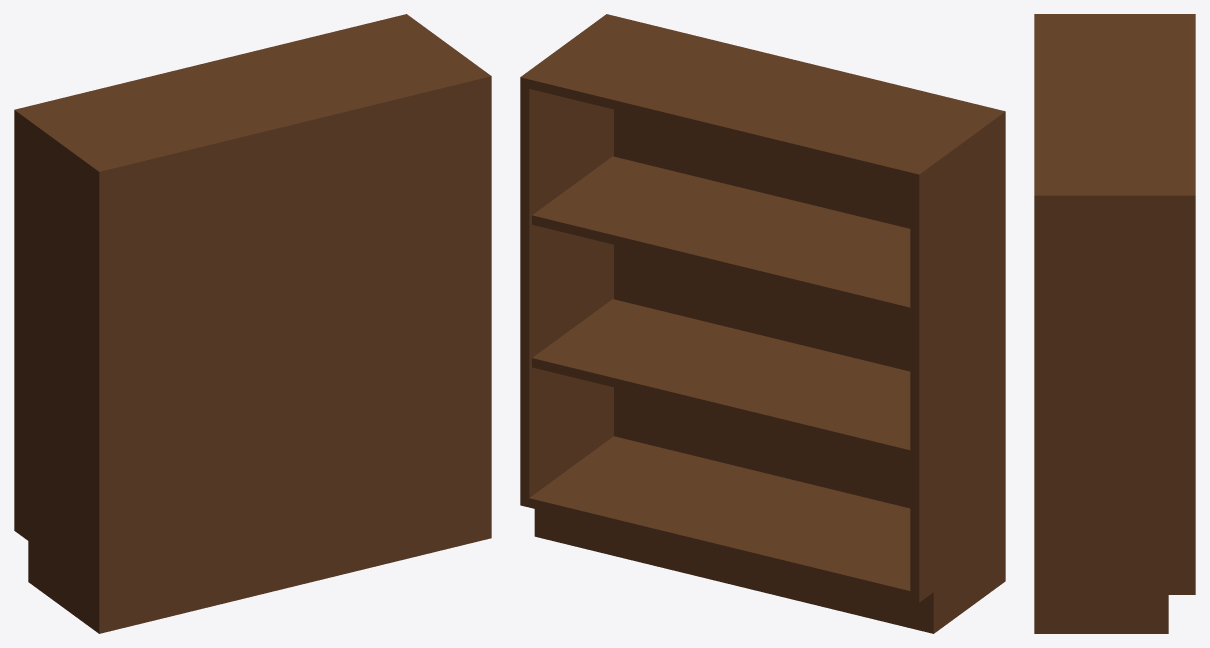
The model's file is furniture.storage.bookcase_low.glb.
3 renders of one model, left to right at view 1: azimuth 30°, elevation 25°; view 2: azimuth 150°, elevation 25°; view 3: azimuth 270°, elevation 25°, orthographic. The views are drawn at different scales.
Visible parts, largest first — view 1: main__hardwood; view 2: main__hardwood; view 3: main__hardwood.
Boxes of the visible parts, left/top/right/bottom form: main__hardwood: left=14, top=14, right=491, bottom=633; main__hardwood: left=520, top=14, right=1005, bottom=633; main__hardwood: left=1034, top=14, right=1195, bottom=633.
Size of the model in its own units: 0.8 by 0.9 by 0.3.
